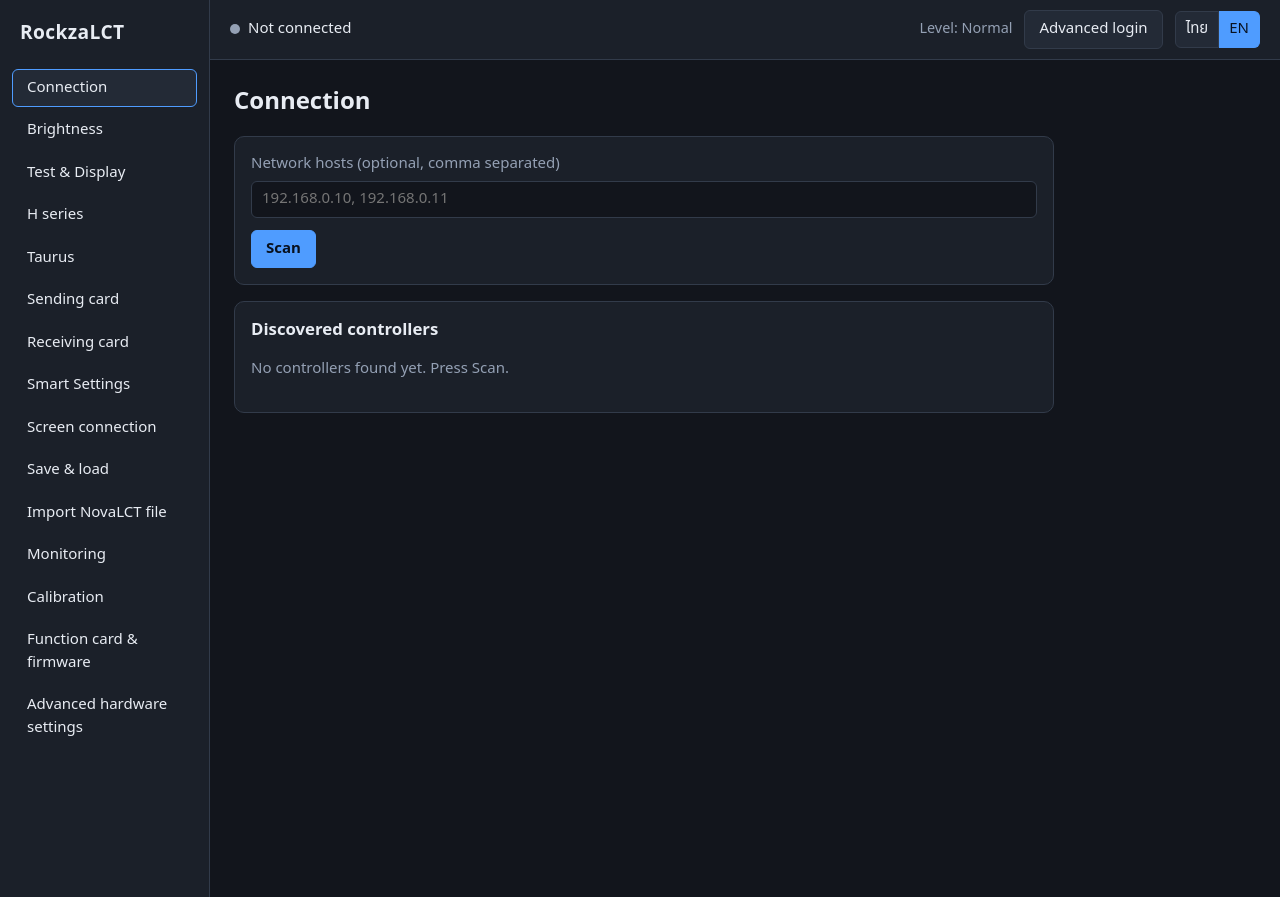
Scenario: ReceiverPage › is inert while not connected
The image size is (1280, 897).
Click the button "Receiving card" at {"x": 104, "y": 343}, box [12,324,197,362]
(page scrolled)
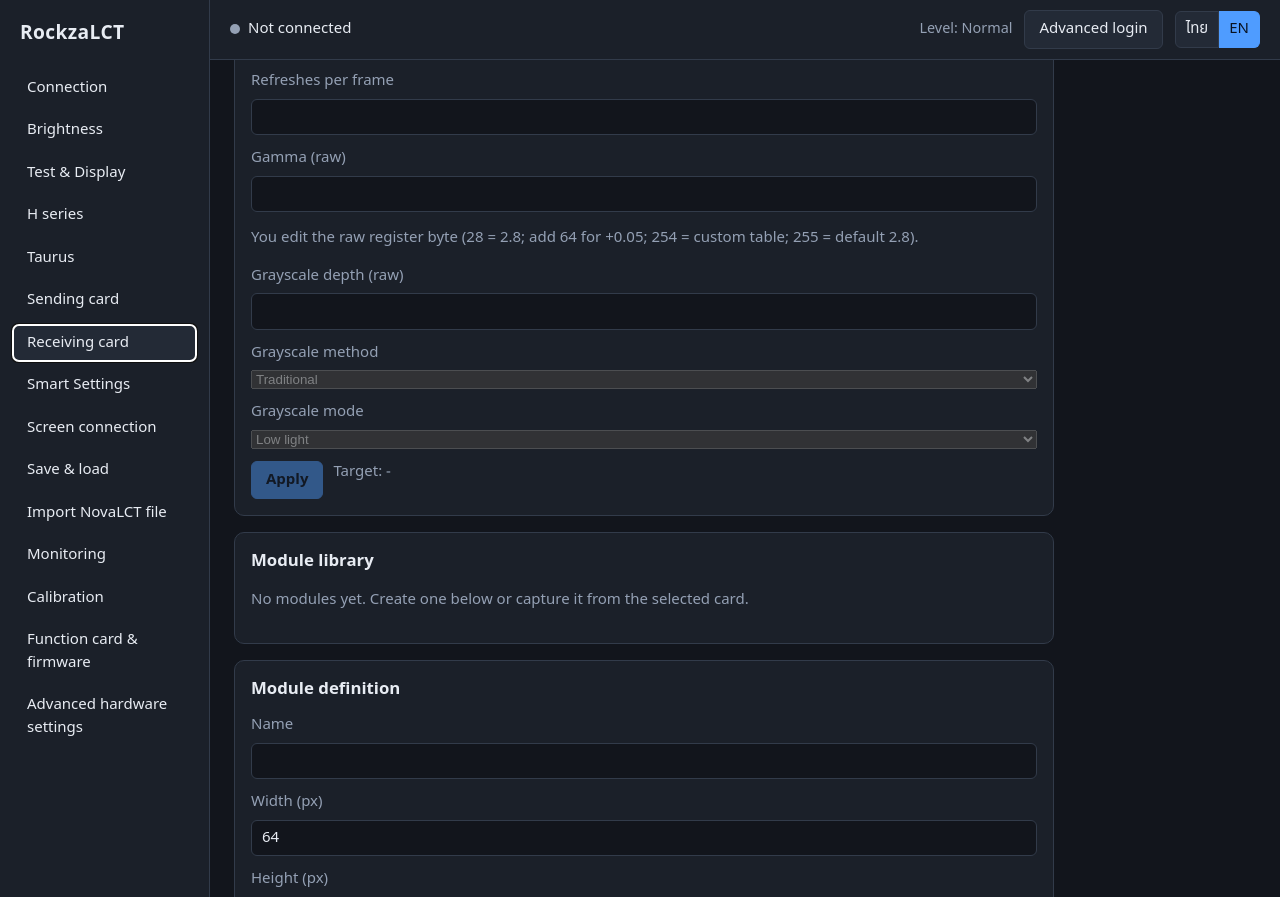
Expected: the button "Apply" is disabled, [251,461,324,499]
